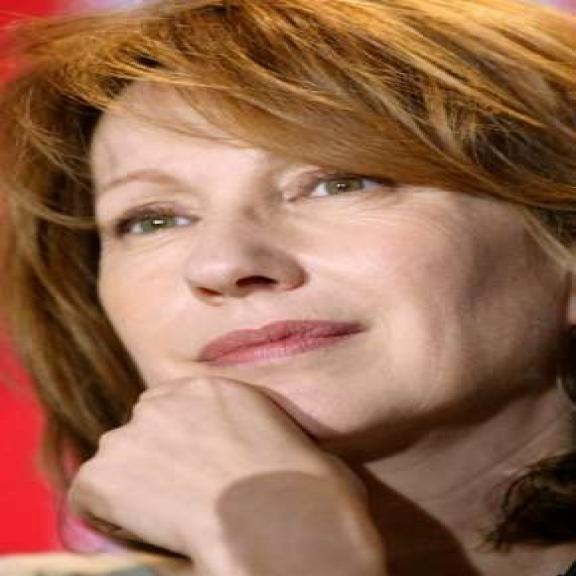face: (77, 63, 576, 440)
